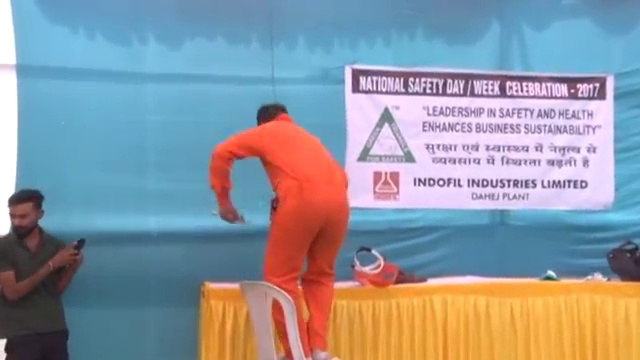helmet_off: (7, 188, 46, 238), (255, 99, 289, 132)
person: (213, 103, 351, 360), (1, 188, 90, 360)
